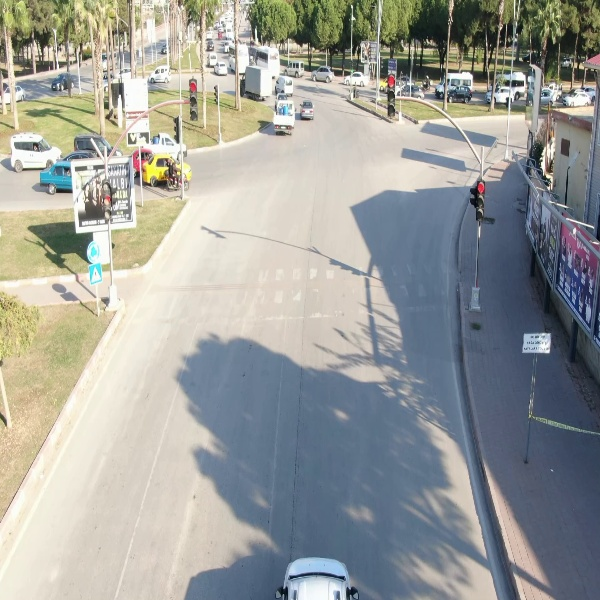car: (5, 133, 66, 174), (49, 69, 79, 92), (562, 88, 593, 109), (146, 65, 176, 86), (310, 62, 335, 85), (297, 96, 318, 122), (445, 85, 473, 103), (342, 71, 369, 88), (209, 58, 230, 79), (284, 60, 306, 78)
